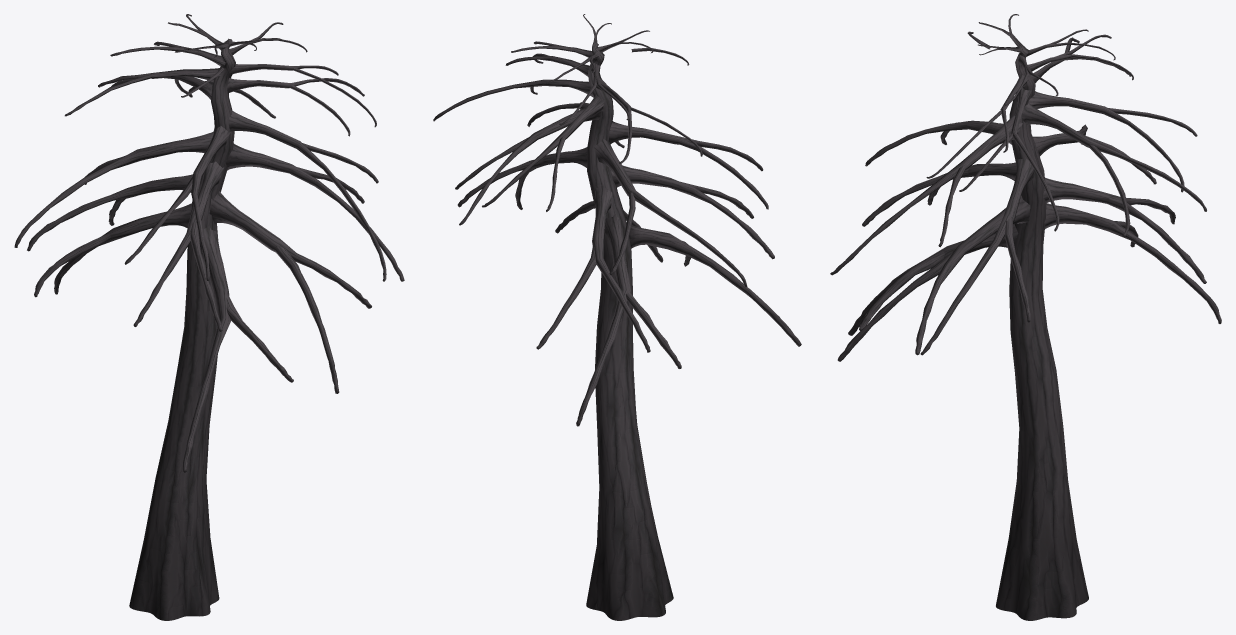
Rendered from dead-tree-5.glb.
3 views of the same model, side by side, from view 1: azimuth 30°, elevation 25°; view 2: azimuth 150°, elevation 25°; view 3: azimuth 270°, elevation 25° (orthographic). The views are drawn at different scales.
Visible parts, largest first — view 1: DeadTree_4; view 2: DeadTree_4; view 3: DeadTree_4.
Boxes of the visible parts, x1,y1,x2,y2 form: DeadTree_4: [14, 14, 404, 620]; DeadTree_4: [433, 14, 801, 620]; DeadTree_4: [830, 14, 1221, 620].
Size of the model in its own units: 7.96 by 12.77 by 7.73.
1 material, 1 textured.
